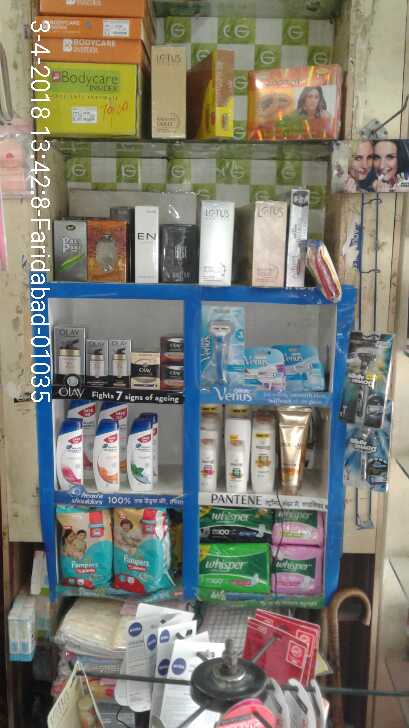venus: (201, 305, 246, 391), (285, 344, 326, 391), (246, 347, 285, 391)
